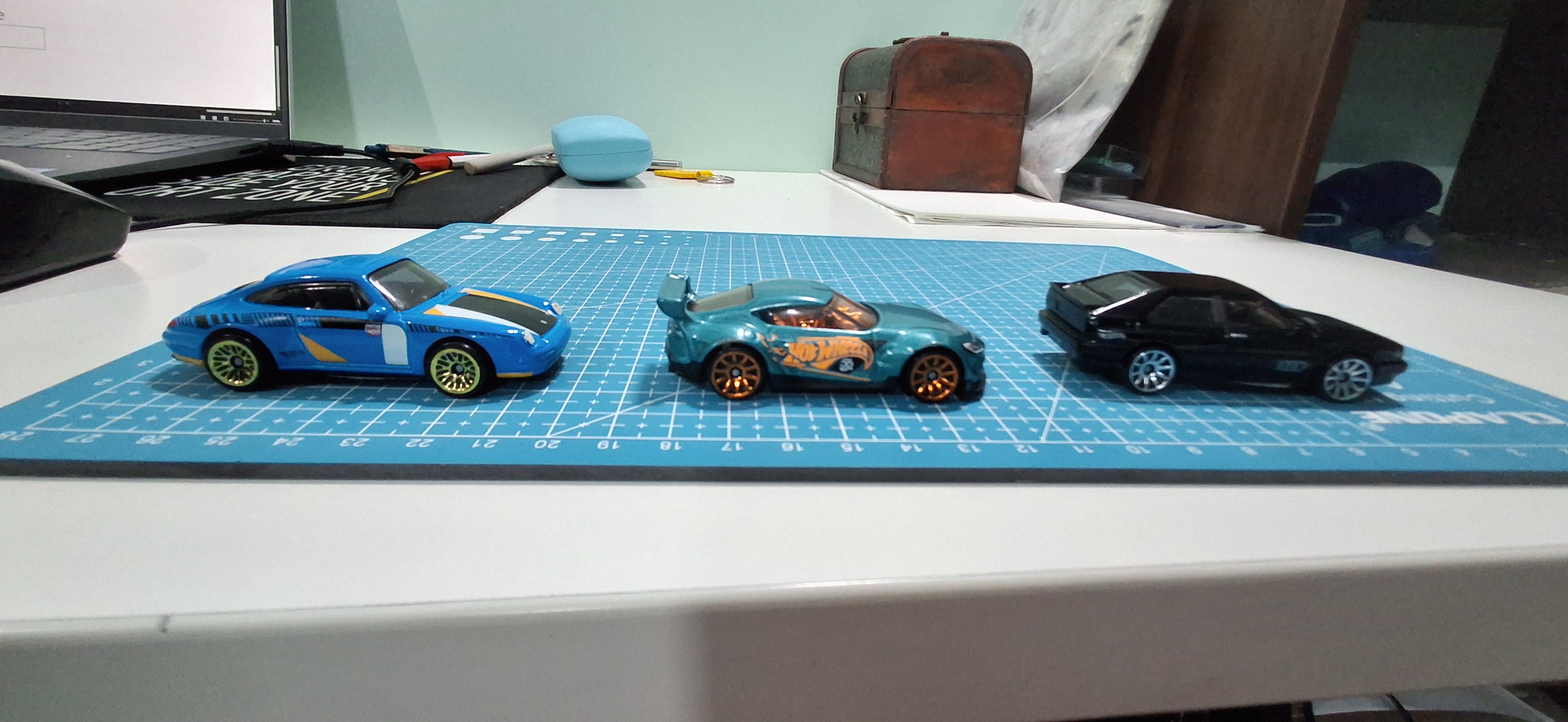Audi_Quattro: (1027, 239, 1431, 433)
Porsche_Carrera: (141, 210, 590, 421)
Toyota_GR_Supra: (613, 219, 993, 441)
